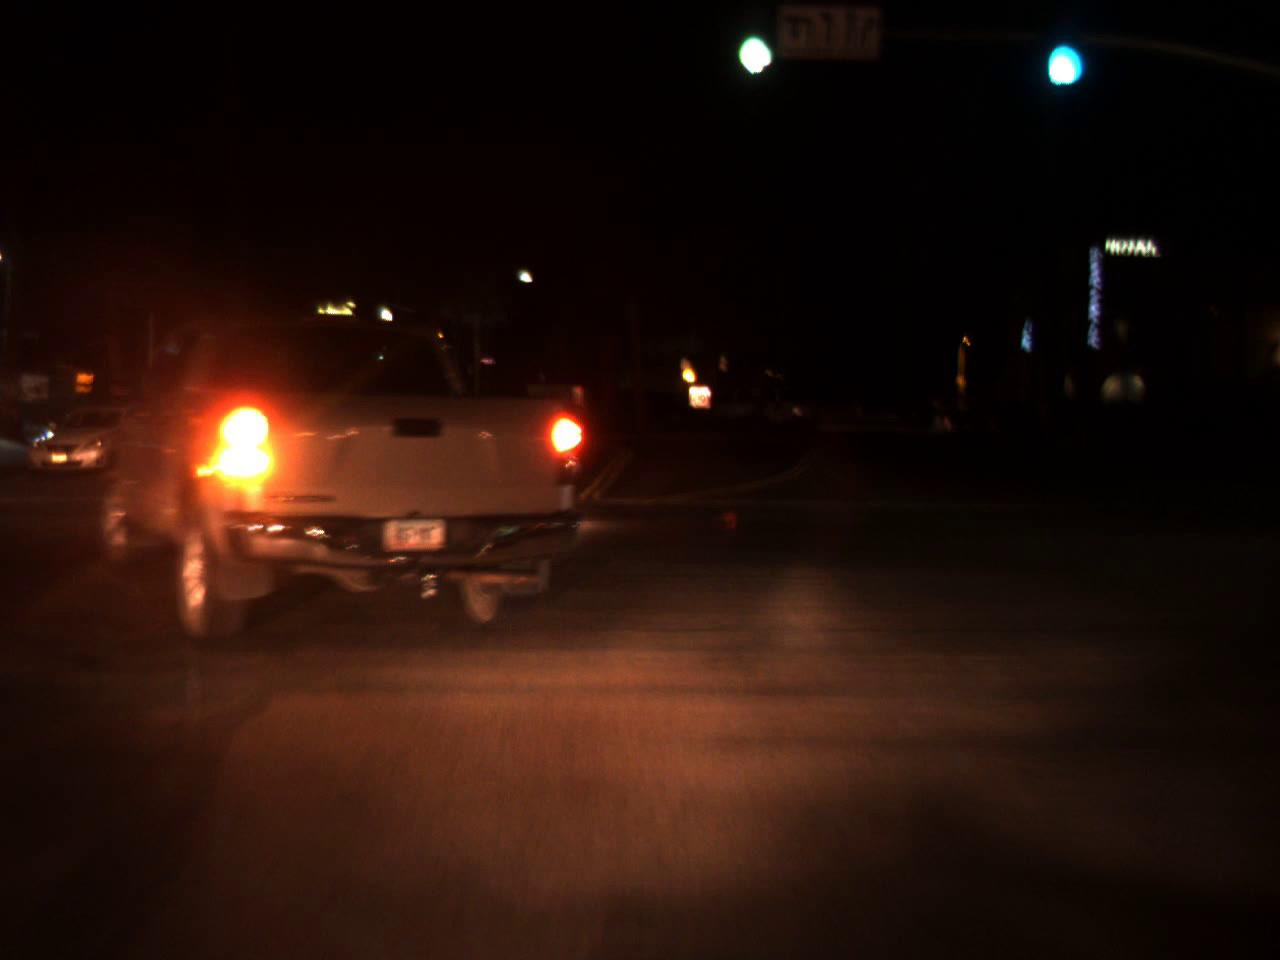go: (1038, 17, 1081, 95), (731, 17, 776, 74)
